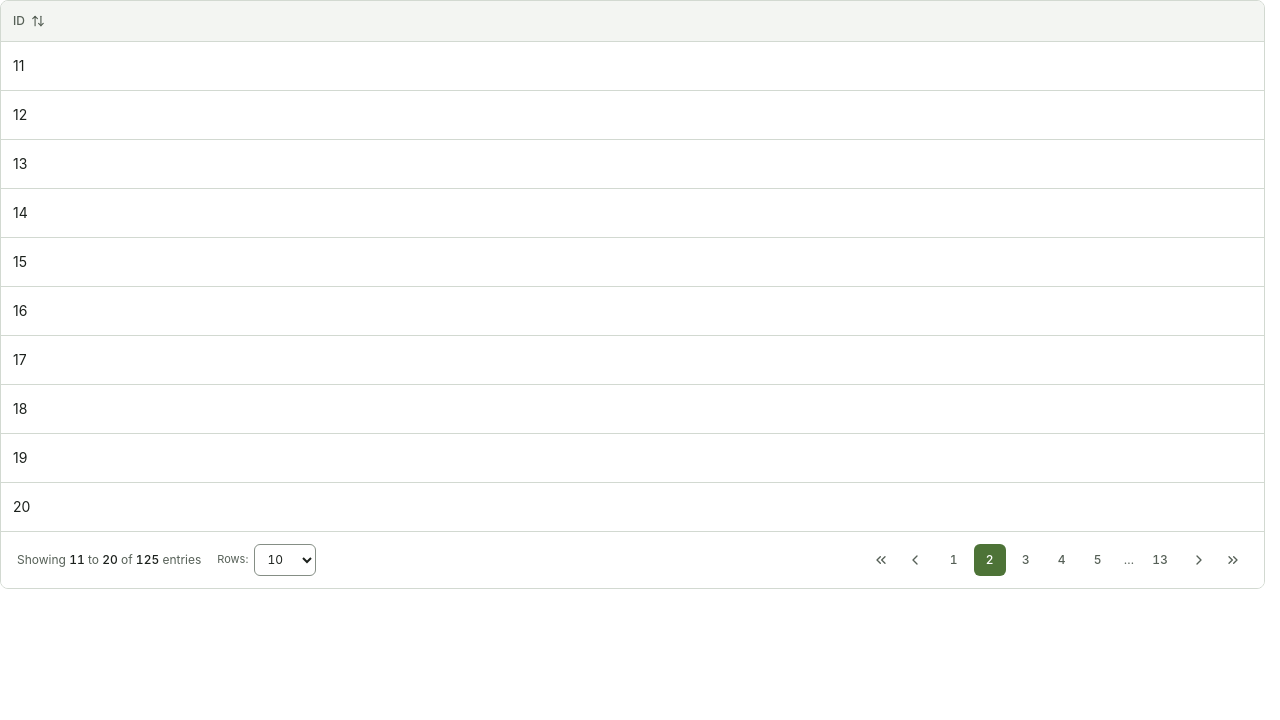
Test: DataTable pagination › passes page size and reset page to the controlled server data owner without slicing server rows
The width and height of the screenshot is (1280, 720).
Step 1. Select "20" in the dropdown named "Rows per page" → point(285, 560), box [254, 544, 316, 576]
(page scrolled)
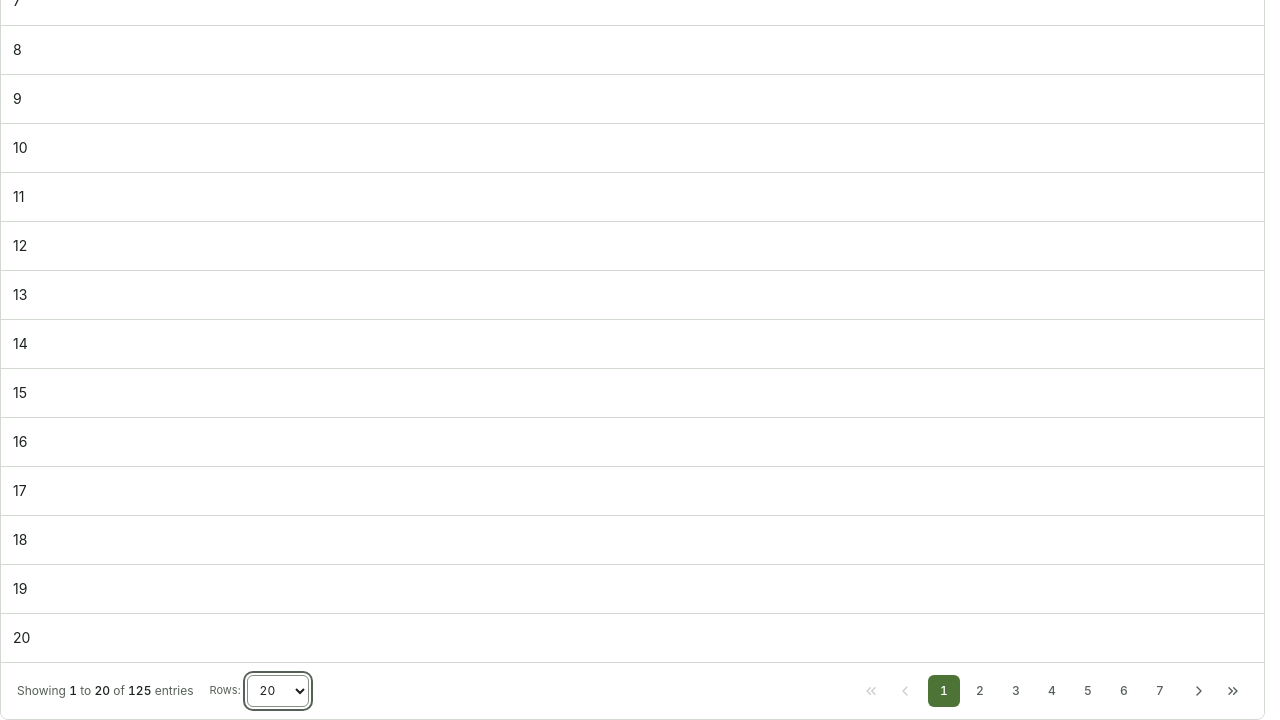
Now the number of cells is 20
Now the text "Showing 1 to 20 of 125 entries" is shown, box [17, 682, 194, 698]
Step 2. Click the button named "Next Page" → point(1199, 690), box [1184, 676, 1214, 706]
(page scrolled)
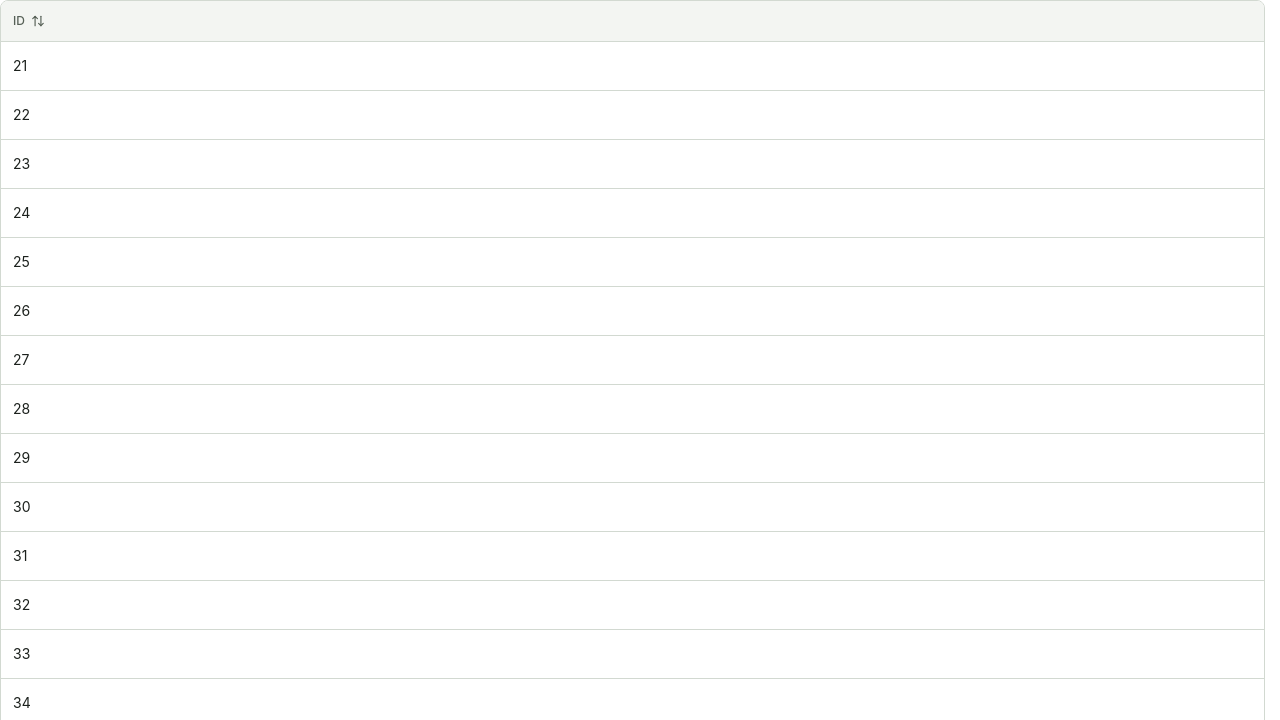
Now the cell "21" is shown, box [1, 41, 1264, 90]
